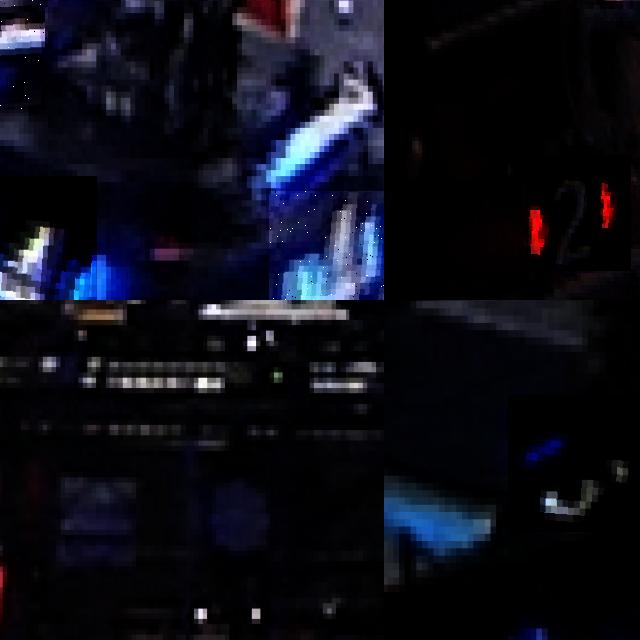B3: (507, 395, 640, 533)
B4: (268, 191, 384, 300), (0, 176, 96, 300), (0, 0, 45, 113)
R2: (526, 155, 631, 271)
